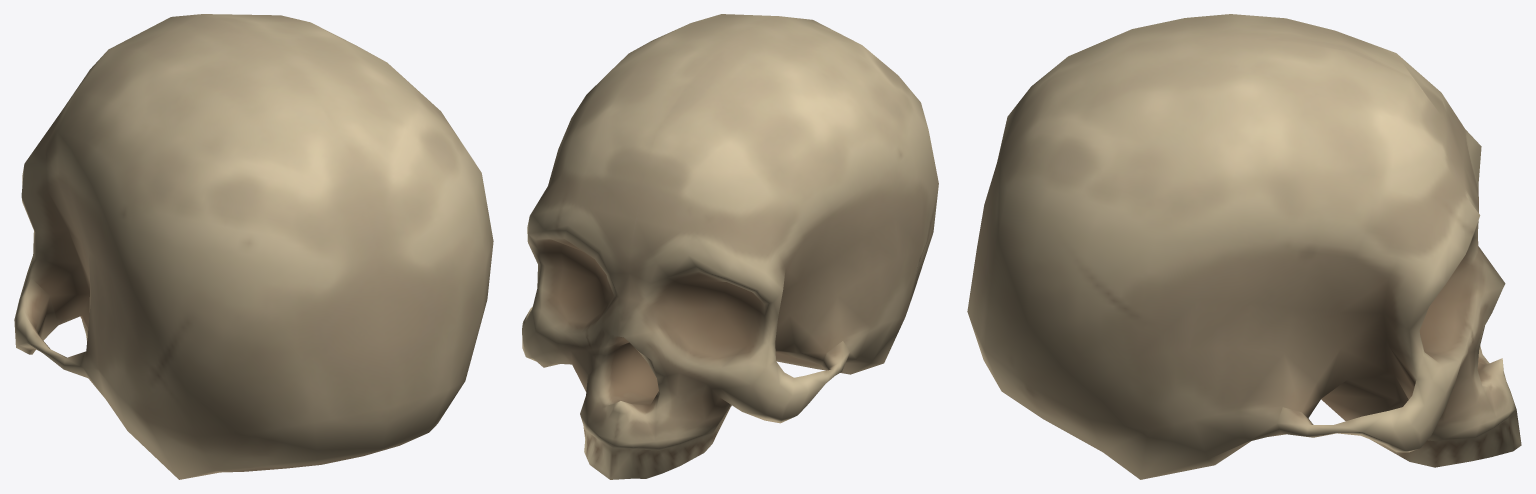
3 renders of one model, left to right at view 1: azimuth 30°, elevation 25°; view 2: azimuth 150°, elevation 25°; view 3: azimuth 270°, elevation 25°, orthographic. The views are drawn at different scales.
Visible parts, largest first — view 1: submesh_0; view 2: submesh_0; view 3: submesh_0.
Boxes of the visible parts, x1,y1,x2,y2 form: submesh_0: (14,14,493,479); submesh_0: (522,14,938,479); submesh_0: (967,14,1521,479).
Size of the model in its own units: 0.2671 by 0.3003 by 0.3713.
Materials: 1 (1 with a texture image).
